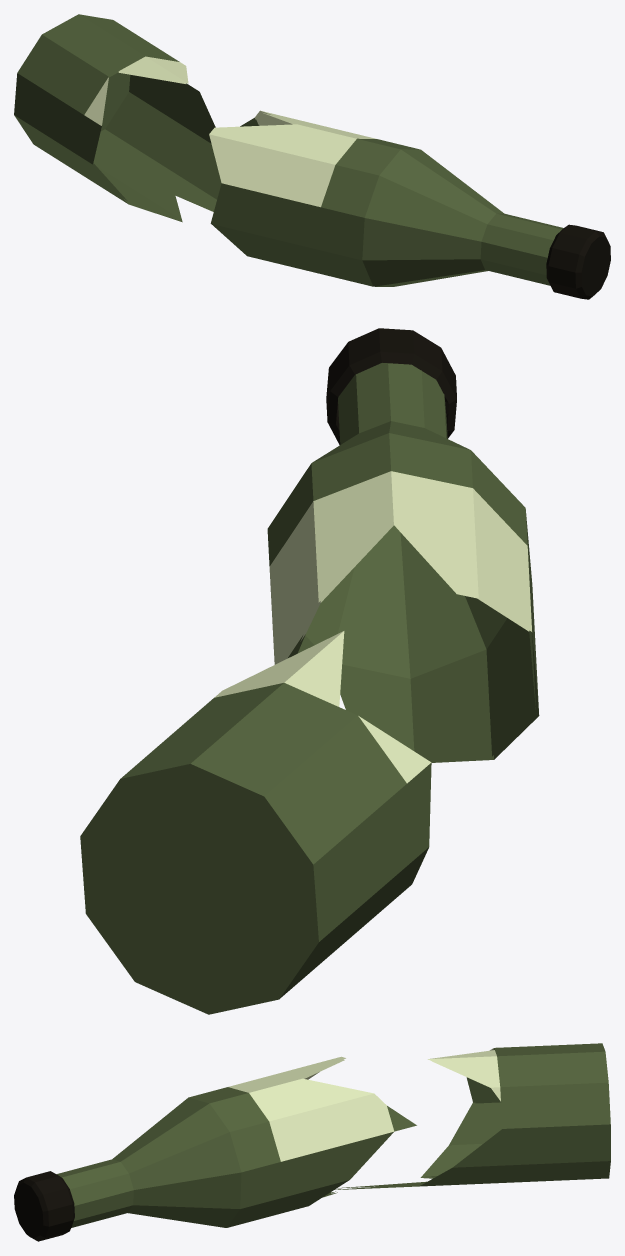
File: winebottle-broken.fbx
The picture shows the model from 3 angles, top to bottom: view 1: azimuth 30°, elevation 25°; view 2: azimuth 150°, elevation 25°; view 3: azimuth 270°, elevation 25°; orthographic projection. The views are drawn at different scales.
Parts seen in each view (by area): view 1: bottle top, bottom glass.001, bottom glass, label, cap, bottom label; view 2: bottom glass, top inside, label, bottle top, cap, bottom label; view 3: bottle top, bottom glass, label, cap, bottom glass.001, bottom label.
Part boxes in pixels (x1,y1,x2,y2): bottle top: [210, 118, 563, 286]; bottom glass.001: [93, 71, 220, 218]; bottom glass: [14, 14, 221, 222]; label: [209, 110, 375, 207]; cap: [546, 224, 610, 299]; bottom label: [84, 56, 188, 125]; bottom glass: [80, 683, 431, 1014]; top inside: [295, 523, 535, 759]; label: [269, 471, 531, 664]; bottle top: [267, 363, 539, 762]; cap: [326, 328, 456, 444]; bottom label: [214, 631, 431, 783]; bottle top: [56, 1087, 416, 1227]; bottom glass: [334, 1043, 610, 1189]; label: [228, 1056, 394, 1161]; cap: [14, 1171, 74, 1241]; bottom glass.001: [337, 1061, 528, 1188]; bottom label: [428, 1048, 500, 1101].
Bounding box in the file's own units: 0.3592 × 0.1477 × 0.6312.
